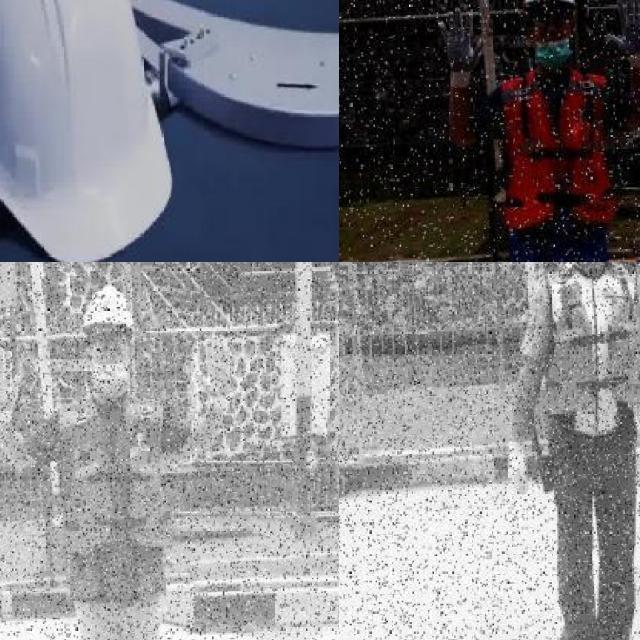apron: (438, 6, 484, 91), (193, 332, 236, 412), (605, 0, 640, 70), (0, 343, 20, 428), (506, 438, 532, 497)
